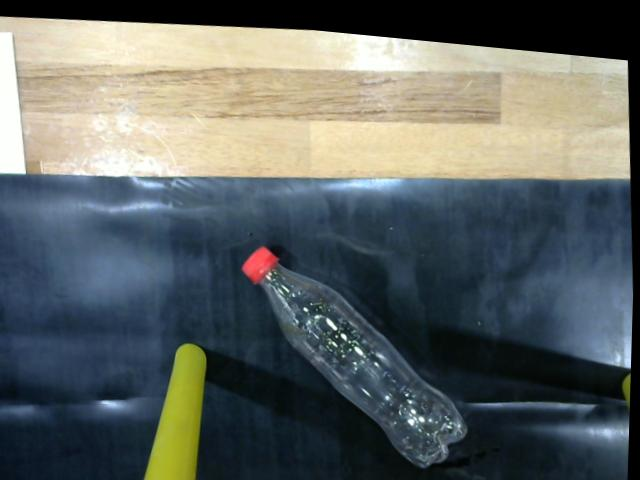bottle: (237, 235, 480, 464)
